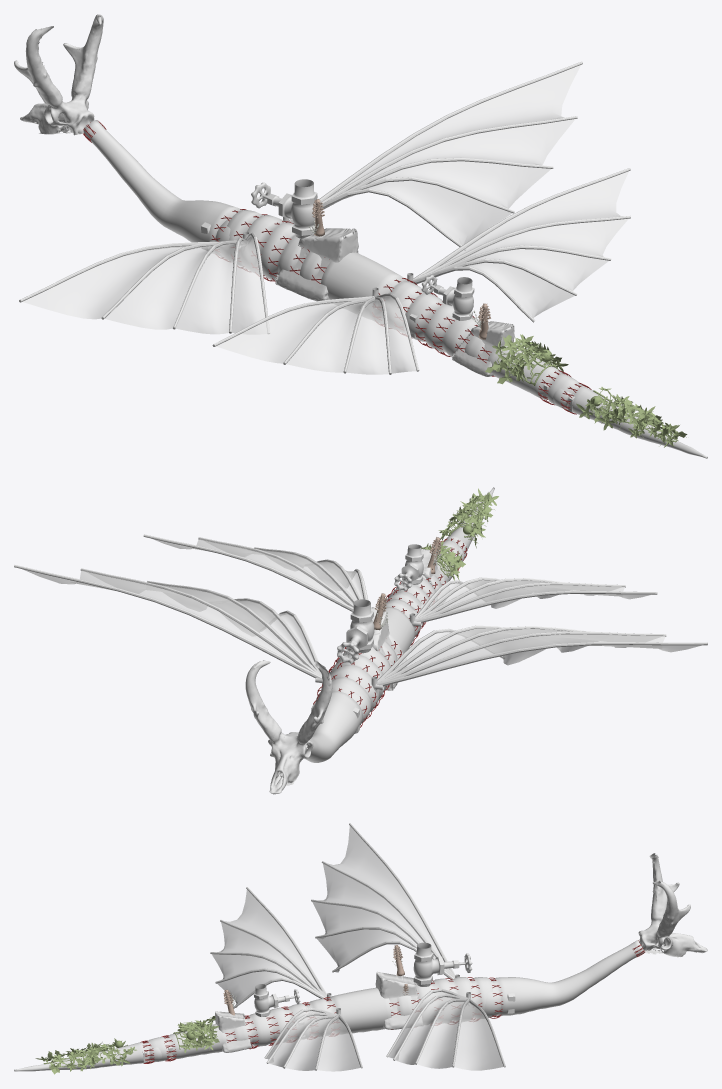
Rendered from chimera_f02.glb.
The picture shows the model from 3 angles, top to bottom: view 1: azimuth 30°, elevation 25°; view 2: azimuth 150°, elevation 25°; view 3: azimuth 270°, elevation 25°; orthographic projection. The views are drawn at different scales.
Visible parts, largest first — view 1: DR01_body.001, DR01_wingF_R_membrane.001, DR01_wingF_L_membrane.001, DR01_wingR_R_membrane.001, DR01_wingR_L_membrane.001, DR01_head_skull.001, DR01_wingF_R_struts.001, DR01_plant_citrullus_vine.001, DR01_wingR_R_struts.001, DR01_graft_concrete_1.001, DR01_wingF_L_struts.001, DR01_wingR_L_struts.001 (+3 smaller); view 2: DR01_body.001, DR01_wingF_R_membrane.001, DR01_wingF_L_membrane.001, DR01_wingF_L_struts.001, DR01_wingF_R_struts.001, DR01_head_skull.001, DR01_wingR_L_struts.001, DR01_wingR_R_membrane.001, DR01_wingR_R_struts.001, DR01_wingR_L_membrane.001, DR01_plant_citrullus_vine.001, DR01_graft_valve_0.001 (+2 smaller); view 3: DR01_body.001, DR01_wingF_L_membrane.001, DR01_wingF_R_membrane.001, DR01_wingR_L_membrane.001, DR01_wingR_R_membrane.001, DR01_head_skull.001, DR01_plant_citrullus_vine.001, DR01_wingF_L_struts.001, DR01_wingR_L_struts.001, DR01_graft_concrete_1.001, DR01_wingF_R_struts.001, DR01_graft_valve_0.001 (+4 smaller).
Part boxes in pixels (x1=…): DR01_body.001: x1=83, y1=120, x2=707, y2=458; DR01_wingF_R_membrane.001: x1=325, y1=65, x2=580, y2=245; DR01_wingF_L_membrane.001: x1=22, y1=236, x2=266, y2=334; DR01_wingR_R_membrane.001: x1=442, y1=171, x2=628, y2=318; DR01_wingR_L_membrane.001: x1=216, y1=297, x2=416, y2=374; DR01_head_skull.001: x1=14, y1=14, x2=103, y2=135; DR01_wingF_R_struts.001: x1=289, y1=61, x2=582, y2=250; DR01_plant_citrullus_vine.001: x1=485, y1=334, x2=687, y2=447; DR01_wingR_R_struts.001: x1=413, y1=168, x2=630, y2=322; DR01_graft_concrete_1.001: x1=275, y1=228, x2=358, y2=301; DR01_wingF_L_struts.001: x1=19, y1=232, x2=269, y2=333; DR01_wingR_L_struts.001: x1=212, y1=293, x2=419, y2=374; DR01_body.001: x1=304, y1=487, x2=494, y2=762; DR01_wingF_R_membrane.001: x1=22, y1=569, x2=314, y2=663; DR01_wingF_L_membrane.001: x1=395, y1=628, x2=701, y2=674; DR01_wingF_L_struts.001: x1=377, y1=625, x2=707, y2=686; DR01_wingF_R_struts.001: x1=14, y1=565, x2=321, y2=678; DR01_head_skull.001: x1=245, y1=660, x2=332, y2=794; DR01_wingR_L_struts.001: x1=415, y1=577, x2=657, y2=622; DR01_wingR_R_membrane.001: x1=152, y1=538, x2=363, y2=603; DR01_wingR_R_struts.001: x1=143, y1=534, x2=367, y2=611; DR01_wingR_L_membrane.001: x1=427, y1=580, x2=651, y2=612; DR01_plant_citrullus_vine.001: x1=421, y1=488, x2=498, y2=580; DR01_graft_valve_0.001: x1=337, y1=599, x2=374, y2=663; DR01_body.001: x1=14, y1=940, x2=644, y2=1071; DR01_wingF_L_membrane.001: x1=312, y1=826, x2=443, y2=972; DR01_wingF_R_membrane.001: x1=388, y1=991, x2=503, y2=1070; DR01_wingR_L_membrane.001: x1=211, y1=890, x2=318, y2=1007; DR01_wingR_R_membrane.001: x1=266, y1=1011, x2=360, y2=1071; DR01_head_skull.001: x1=638, y1=853, x2=707, y2=957; DR01_plant_citrullus_vine.001: x1=35, y1=1016, x2=219, y2=1074; DR01_wingF_L_struts.001: x1=311, y1=823, x2=455, y2=979; DR01_wingR_L_struts.001: x1=210, y1=887, x2=326, y2=1008; DR01_graft_concrete_1.001: x1=375, y1=971, x2=423, y2=1029; DR01_wingF_R_struts.001: x1=386, y1=988, x2=505, y2=1067; DR01_graft_valve_0.001: x1=413, y1=942, x2=472, y2=986.
Size of the model in its own units: 4.09 by 1.09 by 4.94.
